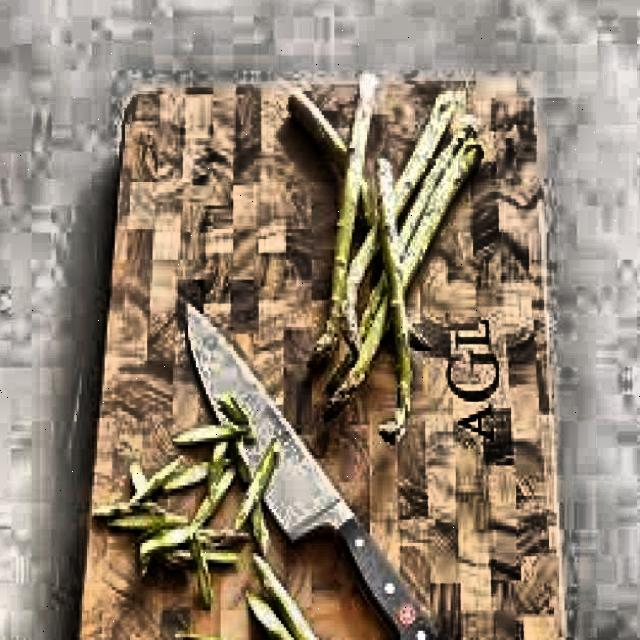knife: (179, 296, 448, 640)
